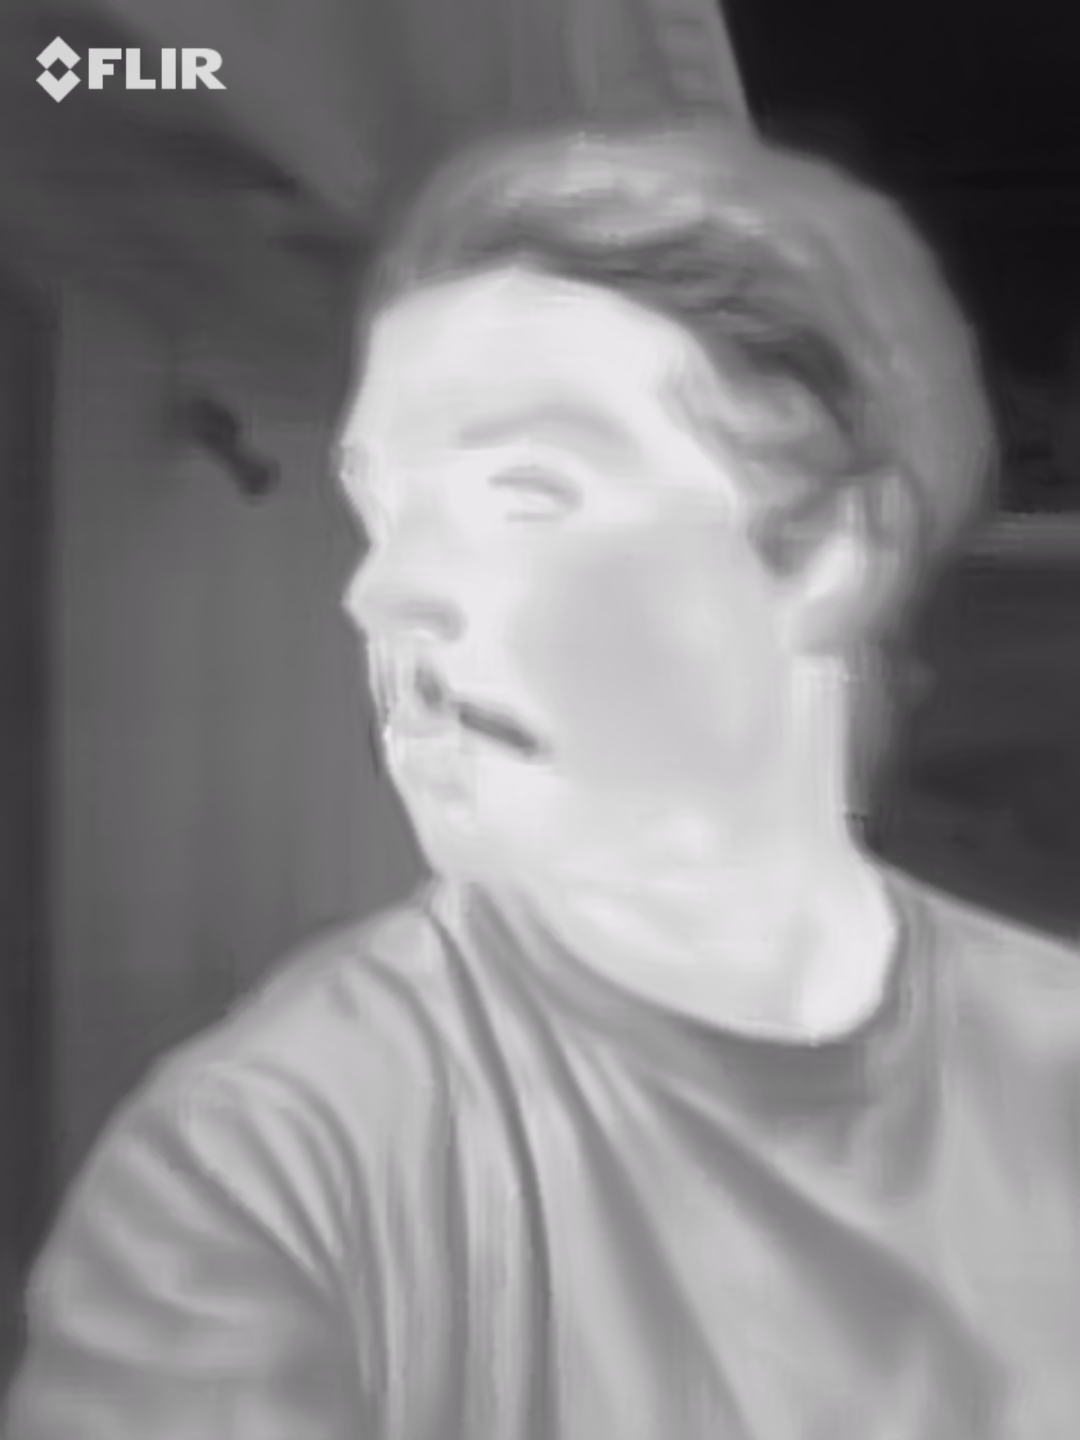head: (323, 115, 983, 897)
